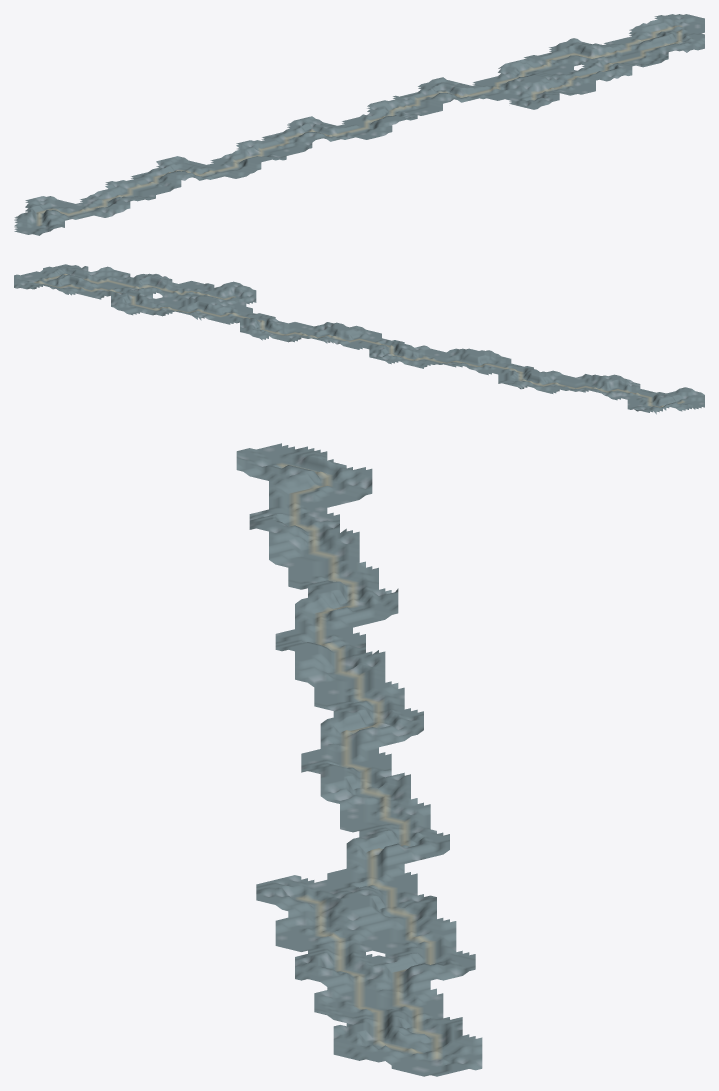
Rendered from terrain.glb.
The picture shows the model from 3 angles, top to bottom: view 1: azimuth 30°, elevation 25°; view 2: azimuth 150°, elevation 25°; view 3: azimuth 270°, elevation 25°; orthographic projection. The views are drawn at different scales.
Parts seen in each view (by area): view 1: NATURAL_13_-2, NATURAL_12_-1, NATURAL_14_-2, NATURAL_15_-2, NATURAL_10_-2, NATURAL_11_-1, NATURAL_2_-1, NATURAL_3_-1, NATURAL_4_-1, NATURAL_11_-2, NATURAL_12_-2, NATURAL_13_-1 (+16 smaller); view 2: NATURAL_15_-2, NATURAL_11_-1, NATURAL_10_-2, NATURAL_12_-2, NATURAL_4_-1, NATURAL_13_-2, NATURAL_5_-1, NATURAL_14_-2, NATURAL_1_-1, NATURAL_11_-2, NATURAL_3_-1, NATURAL_12_-1 (+16 smaller); view 3: NATURAL_12_-1, NATURAL_14_-2, NATURAL_2_-1, NATURAL_13_-2, NATURAL_15_-2, NATURAL_12_-2, NATURAL_4_-1, NATURAL_10_-2, NATURAL_5_-1, NATURAL_0_-1, NATURAL_11_-2, NATURAL_11_-1 (+16 smaller).
Boxes of the visible parts, box(x1,y1,x2,y2) form: NATURAL_13_-2: box(520, 55, 606, 75); NATURAL_12_-1: box(520, 74, 595, 94); NATURAL_14_-2: box(563, 43, 649, 65); NATURAL_15_-2: box(607, 32, 693, 54); NATURAL_10_-2: box(393, 85, 470, 107); NATURAL_11_-1: box(477, 81, 559, 106); NATURAL_2_-1: box(94, 180, 165, 200); NATURAL_3_-1: box(127, 171, 206, 192); NATURAL_4_-1: box(171, 161, 257, 179); NATURAL_11_-2: box(433, 79, 519, 97); NATURAL_12_-2: box(487, 60, 558, 83); NATURAL_13_-1: box(567, 64, 632, 83); NATURAL_15_-2: box(62, 268, 101, 297); NATURAL_11_-1: box(217, 285, 256, 315); NATURAL_10_-2: box(256, 316, 294, 342); NATURAL_12_-2: box(178, 296, 217, 321); NATURAL_4_-1: box(488, 352, 527, 381); NATURAL_13_-2: box(140, 288, 178, 312); NATURAL_5_-1: box(450, 348, 488, 373); NATURAL_14_-2: box(101, 279, 139, 307); NATURAL_1_-1: box(605, 378, 643, 409); NATURAL_11_-2: box(217, 303, 256, 334); NATURAL_3_-1: box(527, 366, 565, 390); NATURAL_12_-1: box(178, 281, 217, 302); NATURAL_12_-1: box(282, 891, 359, 951); NATURAL_14_-2: box(359, 957, 436, 1012); NATURAL_2_-1: box(282, 524, 359, 576); NATURAL_13_-2: box(359, 910, 436, 975); NATURAL_15_-2: box(359, 995, 436, 1047); NATURAL_12_-2: box(359, 886, 436, 936); NATURAL_4_-1: box(282, 596, 359, 647); NATURAL_10_-2: box(359, 804, 436, 861); NATURAL_5_-1: box(282, 635, 359, 684); NATURAL_0_-1: box(282, 451, 359, 502); NATURAL_11_-2: box(359, 840, 436, 894); NATURAL_11_-1: box(282, 860, 359, 911).
Bounding box in the file's own units: 378 × 2.9 × 61.56.
